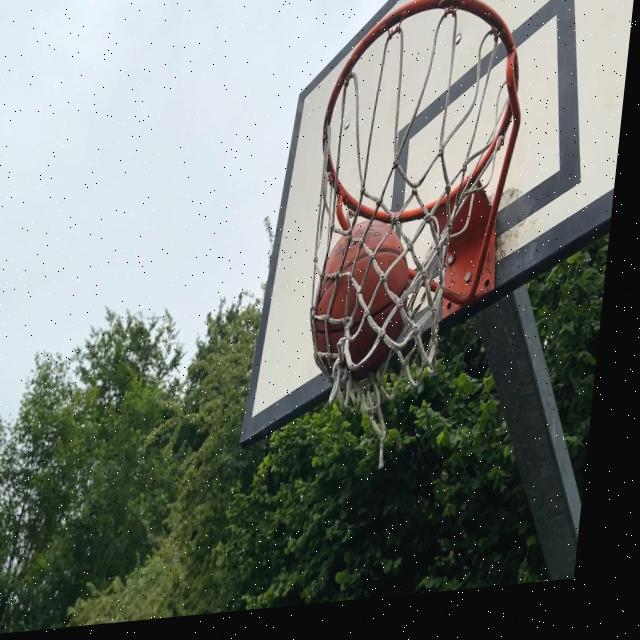Goal: (303, 212, 418, 391)
